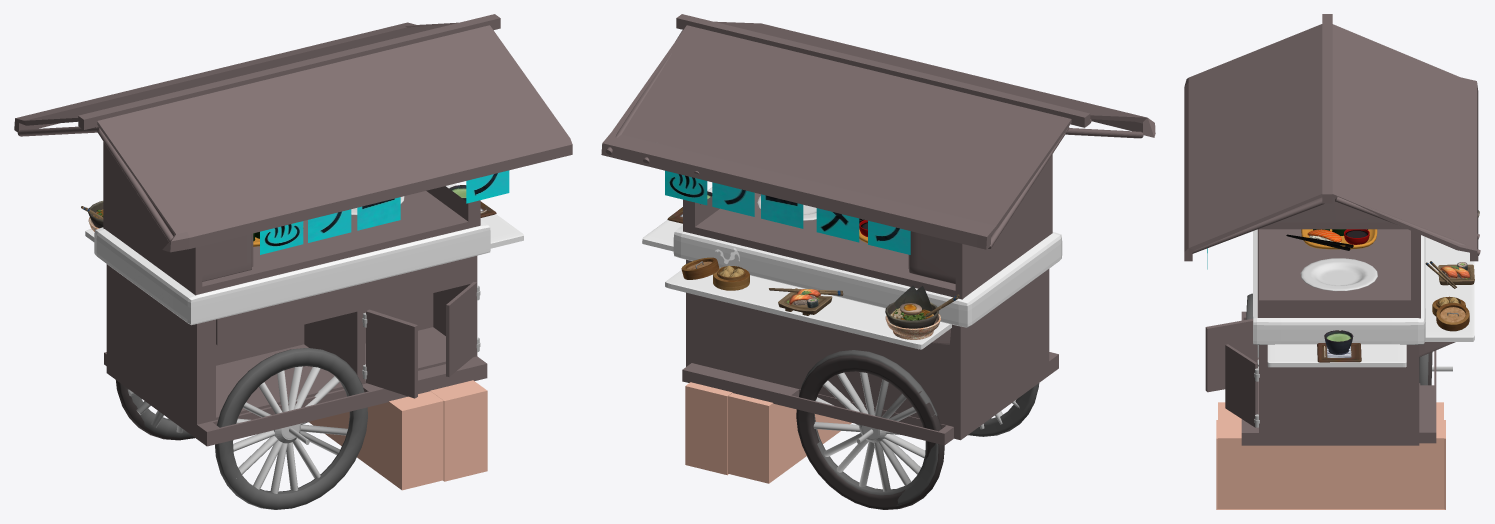
File: foocourt.glb
3 renders of one model, left to right at view 1: azimuth 30°, elevation 25°; view 2: azimuth 150°, elevation 25°; view 3: azimuth 270°, elevation 25°, orthographic. The views are drawn at different scales.
Parts seen in each view (by area): view 1: Object_2; view 2: Object_2; view 3: Object_2.
Boxes of the visible parts, bbox=[...] form: Object_2: bbox=[14, 14, 572, 509]; Object_2: bbox=[601, 14, 1155, 509]; Object_2: bbox=[1184, 14, 1480, 509].
Bounding box in the file's own units: 1.22 × 1.12 × 0.8471.
17 materials, 9 textured.
